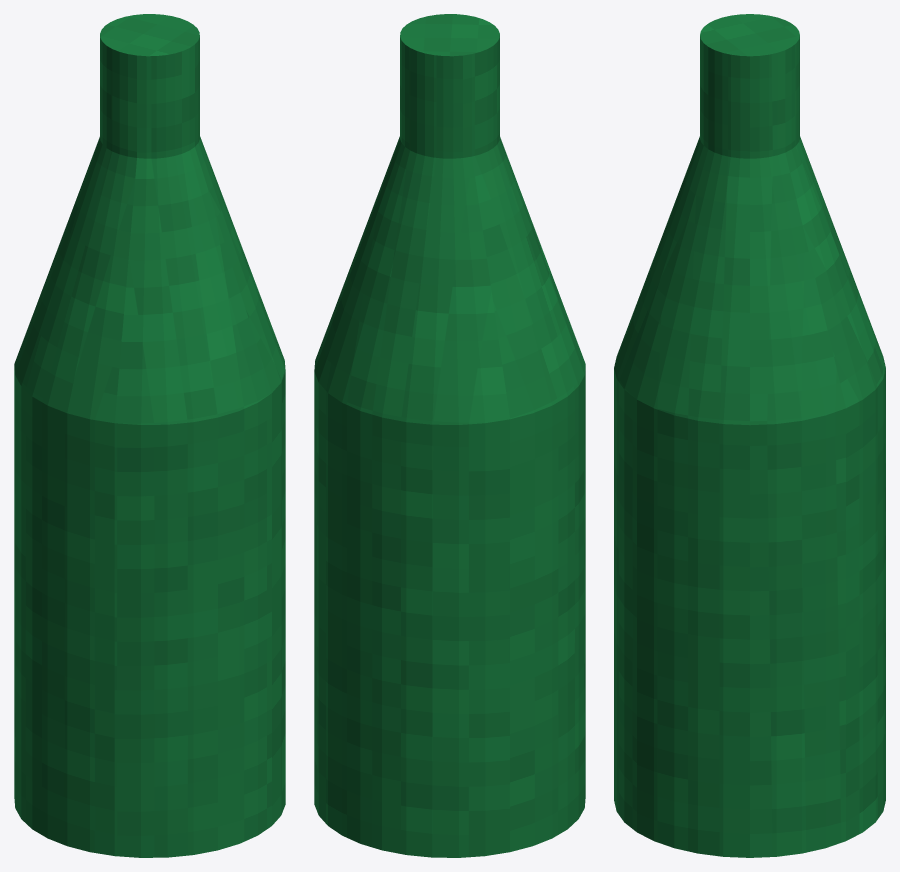
Rendered from Drinkie.fbx.
3 renders of one model, left to right at view 1: azimuth 30°, elevation 25°; view 2: azimuth 150°, elevation 25°; view 3: azimuth 270°, elevation 25°, orthographic.
Parts seen in each view (by area): view 1: Cylinder; view 2: Cylinder; view 3: Cylinder.
Part boxes in pixels (bbox=[...]): Cylinder: bbox=[14, 14, 285, 857]; Cylinder: bbox=[314, 14, 585, 857]; Cylinder: bbox=[614, 14, 885, 857].
Size of the model in its own units: 200 by 621 by 200.
1 material, 1 textured.
